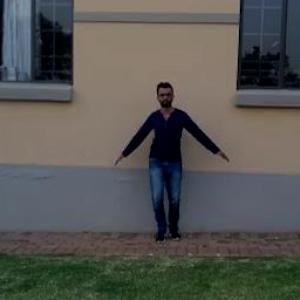land: (115, 86, 226, 256)
